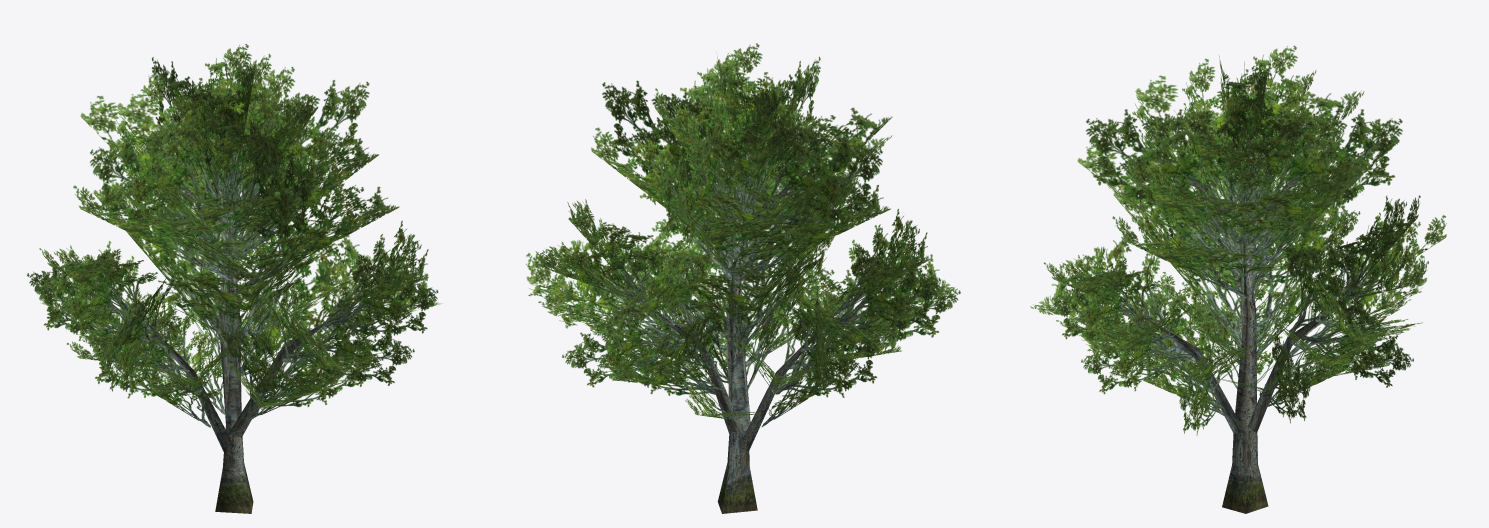
File: ti_tree_01.glb
3 renders of one model, left to right at view 1: azimuth 30°, elevation 25°; view 2: azimuth 150°, elevation 25°; view 3: azimuth 270°, elevation 25°, orthographic.
Parts seen in each view (by area): view 1: TI_Tree_01; view 2: TI_Tree_01; view 3: TI_Tree_01.
Part boxes in pixels (x1,y1,x2,y2): TI_Tree_01: (27, 44, 442, 513); TI_Tree_01: (526, 43, 960, 513); TI_Tree_01: (1030, 45, 1446, 513).
Bounding box in the file's own units: 6.39 × 7.6 × 6.86.
Materials: 3 (3 with a texture image).
